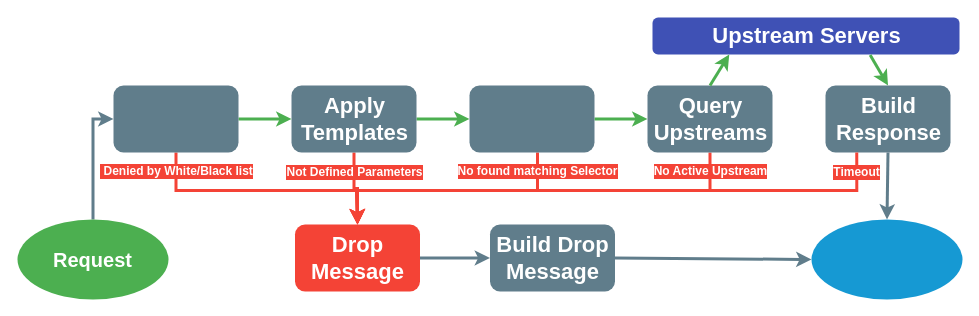
This 979x316 diagram has some shape labels left out. The shapes that lost their labels are listed below. From the top down, each one's box as (x1, y1, x2, y2) in pixels, then its label:
(113, 85, 238, 152): Apply Rules
(469, 85, 594, 152): Upstream Selector
(811, 219, 962, 299): Response
